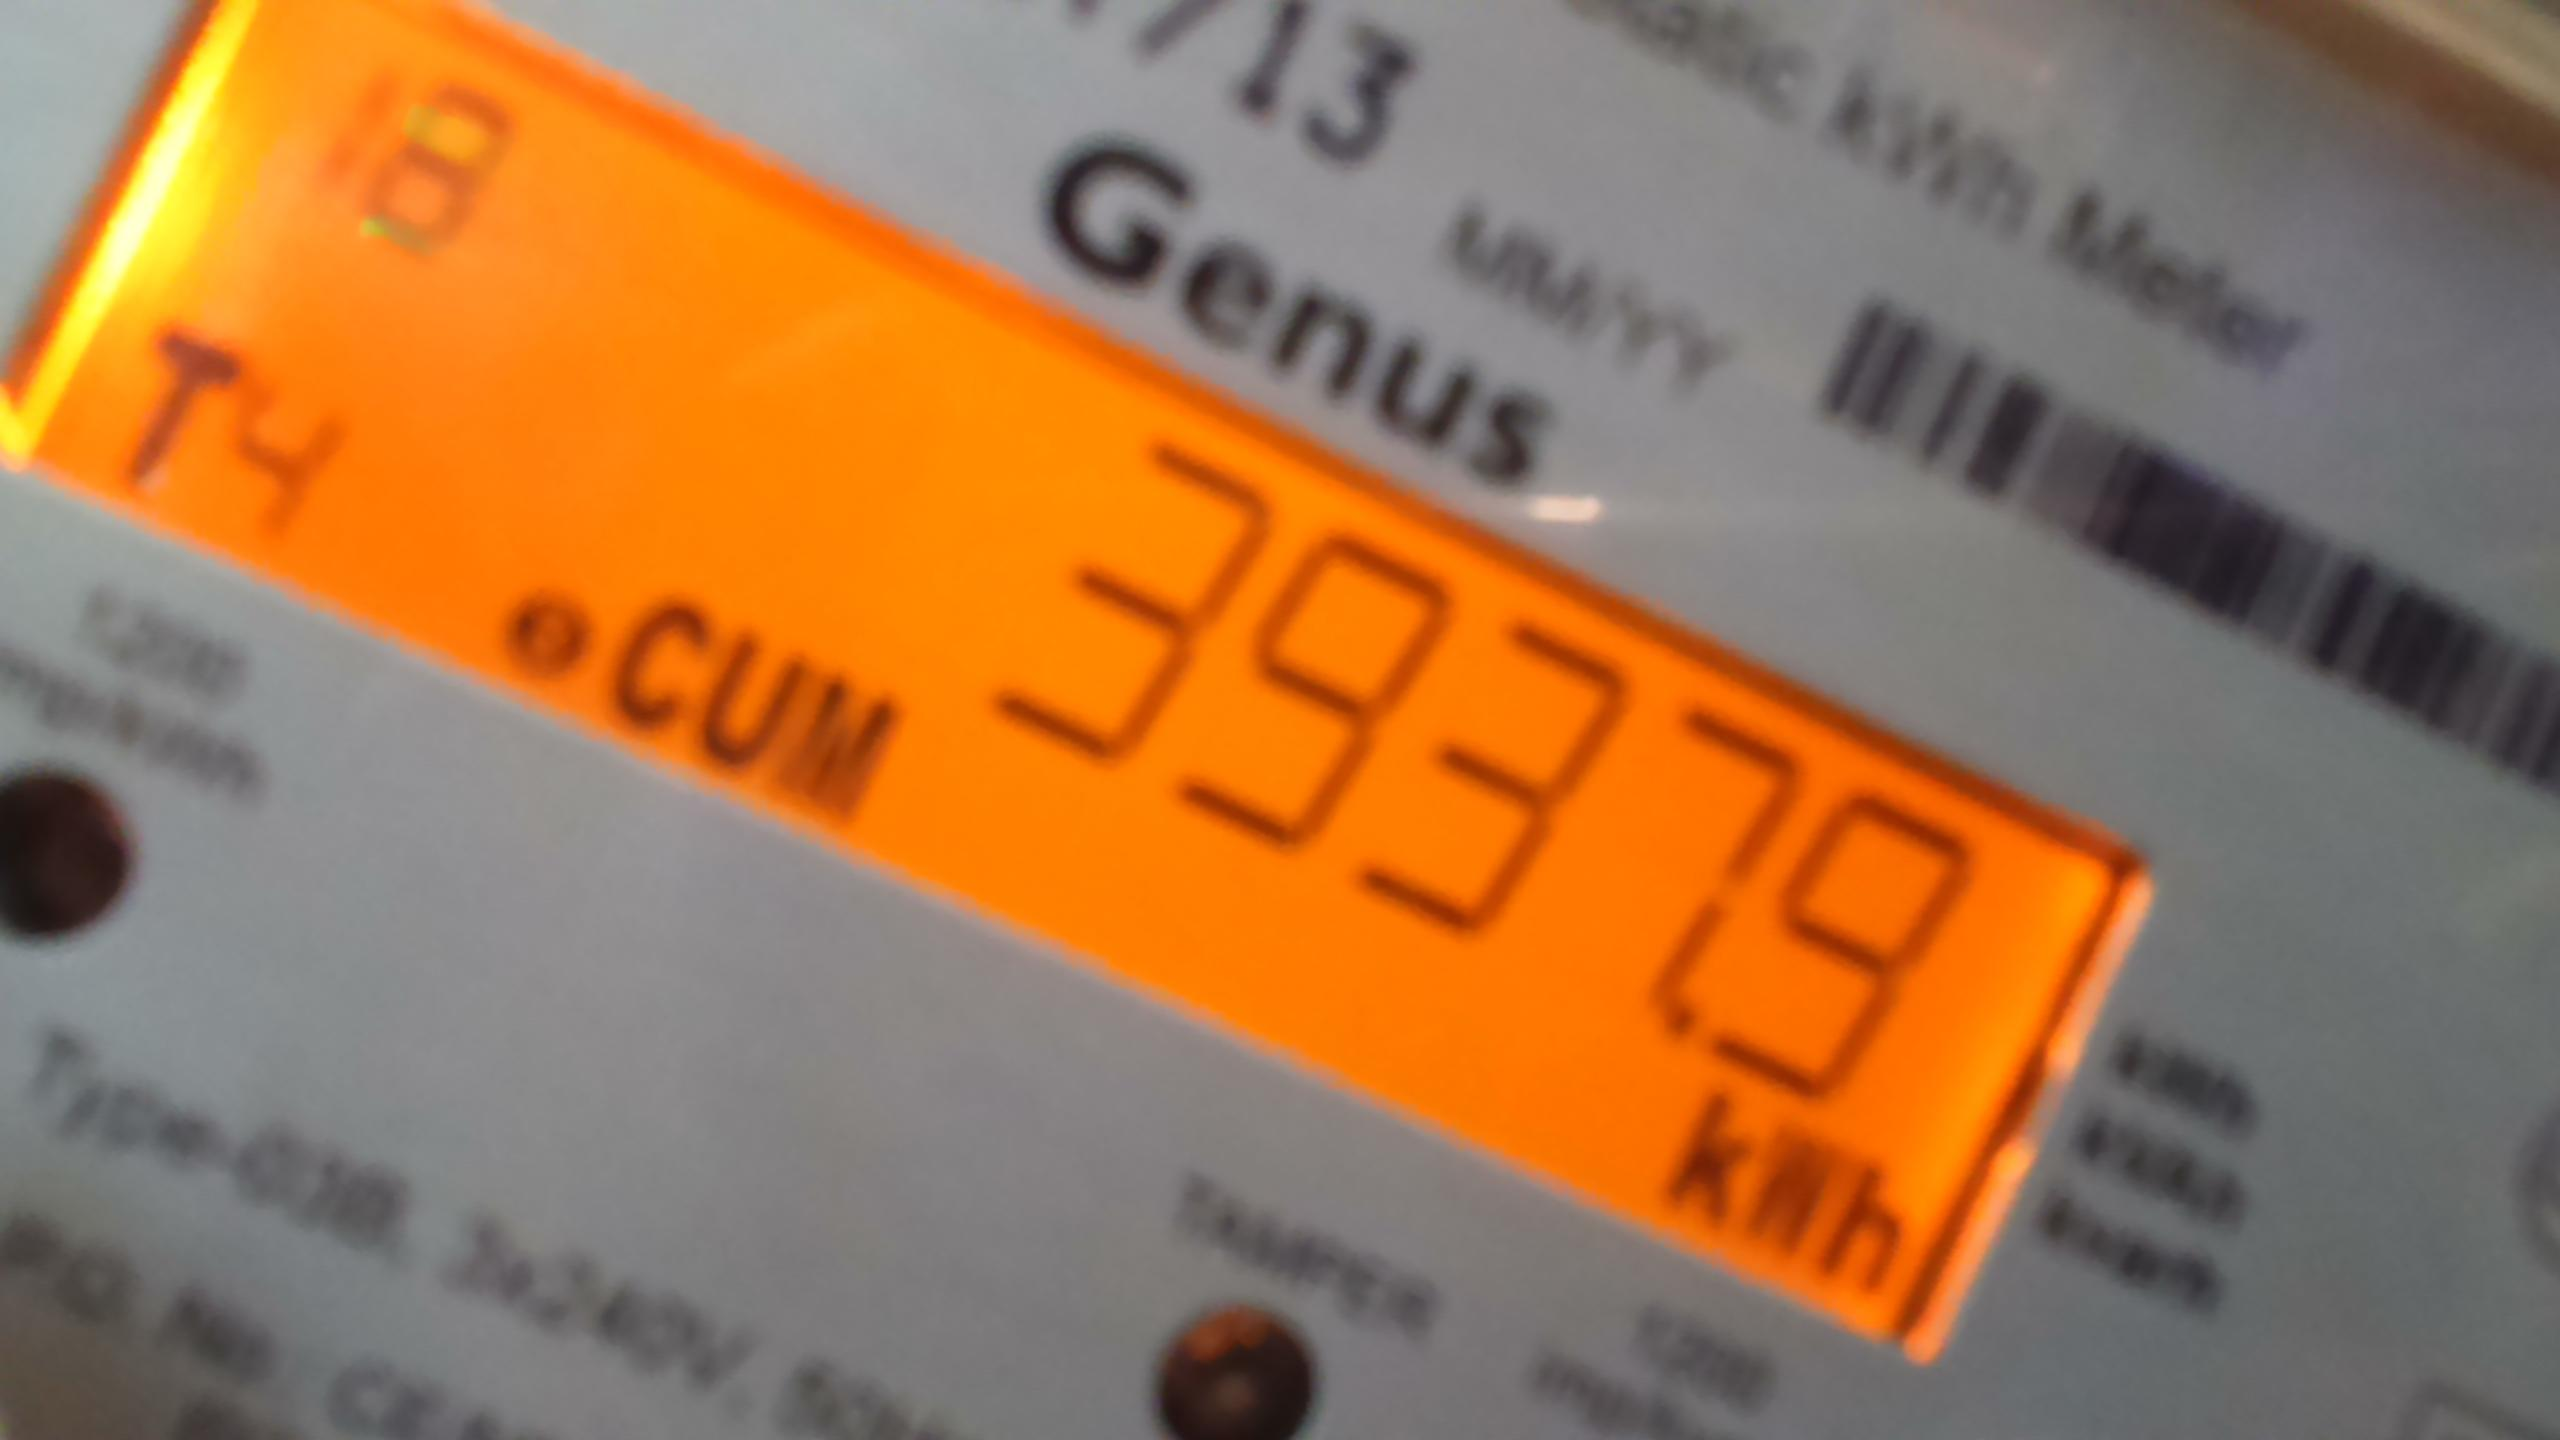.: (1649, 1081, 1915, 1324)
0: (1604, 964, 1716, 1062)
4: (1354, 559, 1621, 935), (1011, 408, 1252, 798)
8: (1561, 684, 1792, 1013)
:: (1707, 763, 2041, 1099), (1167, 498, 1436, 849)
